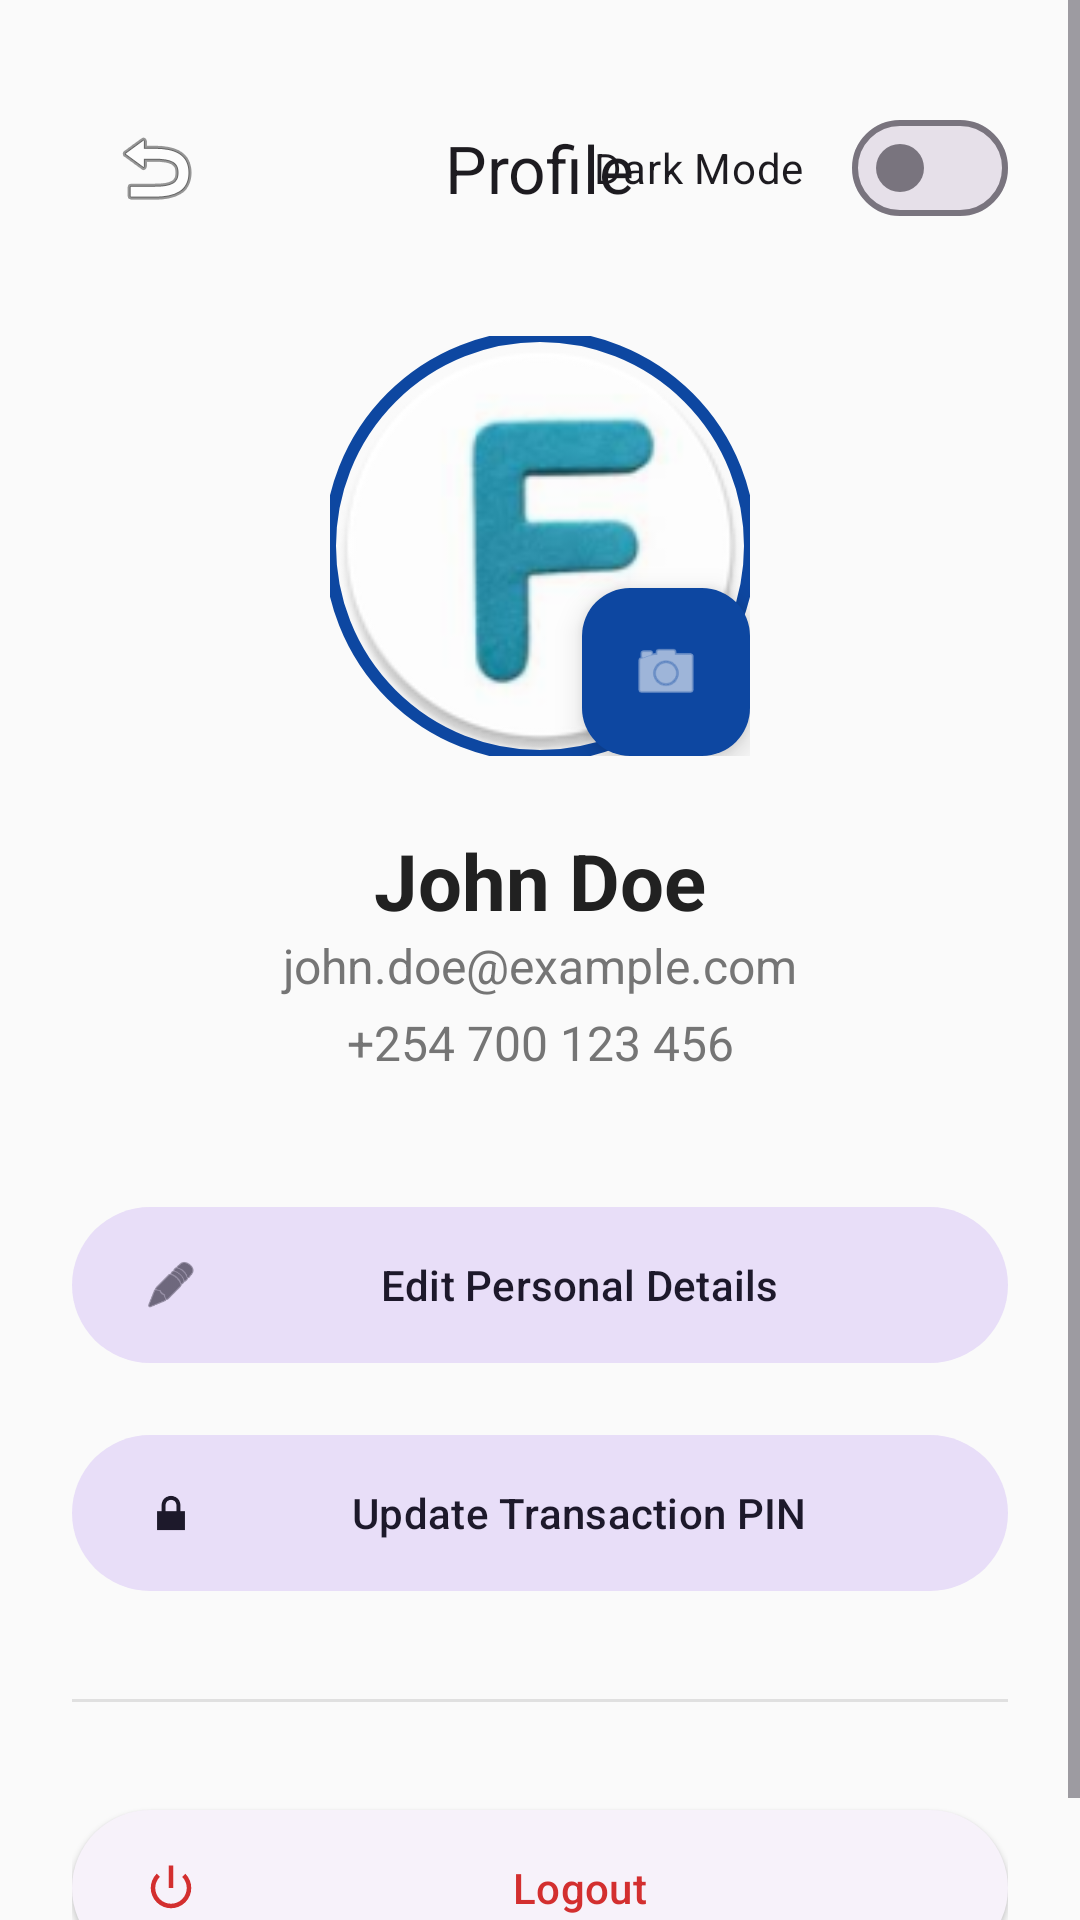

Point at icon controls on the screen. Image size 1080px x 1920px, points as (x=x, y=y).
camera: (x=666, y=672)
